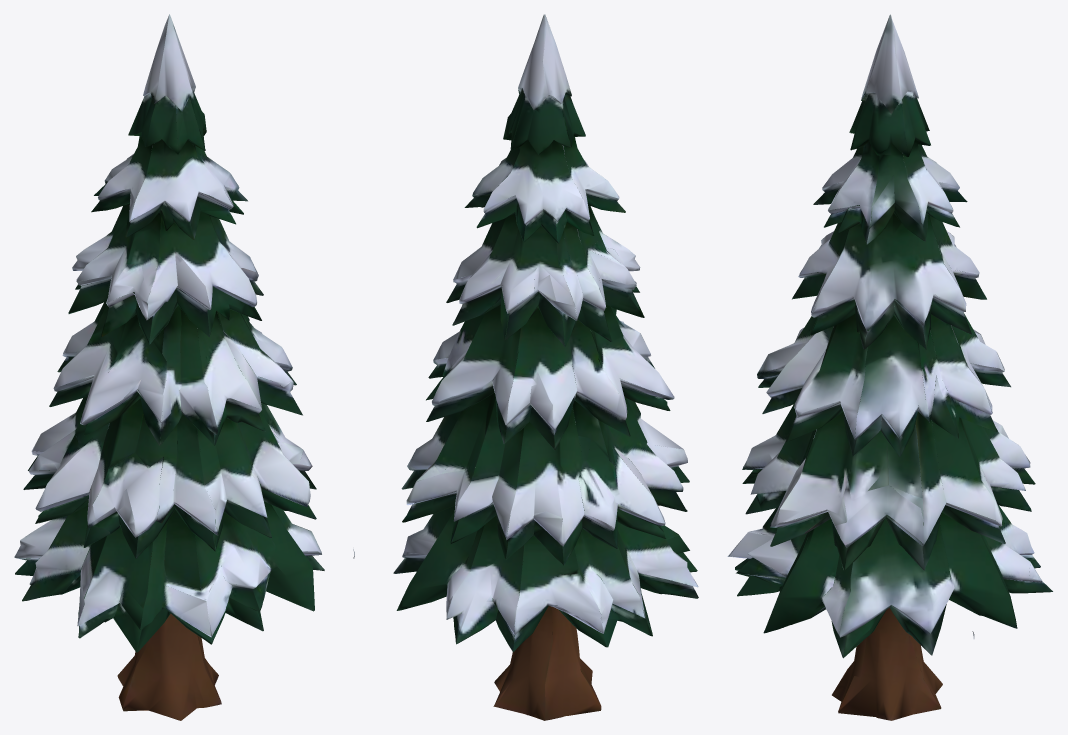
The model's file is pine_gen_a.glb.
The picture shows the model from 3 angles, left to right: view 1: azimuth 30°, elevation 25°; view 2: azimuth 150°, elevation 25°; view 3: azimuth 270°, elevation 25°; orthographic projection.
Parts seen in each view (by area): view 1: tree_0; view 2: tree_0; view 3: tree_0.
Part boxes in pixels (bbox=[...]): tree_0: bbox=[14, 14, 324, 720]; tree_0: bbox=[353, 14, 698, 720]; tree_0: bbox=[727, 14, 1052, 720].
Size of the model in its own units: 3.83 by 9.01 by 3.86.
1 material, 1 textured.
